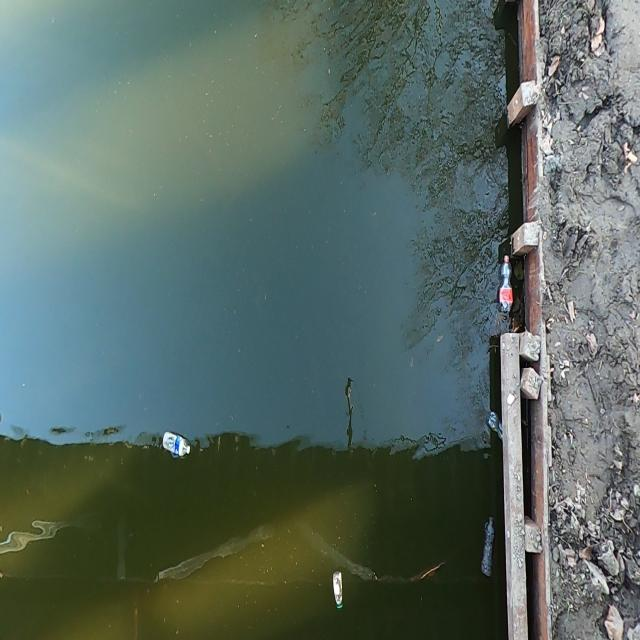Bouteille plastique: (161, 431, 192, 465), (482, 516, 495, 588), (501, 253, 513, 320), (331, 571, 346, 616), (486, 412, 501, 443)
